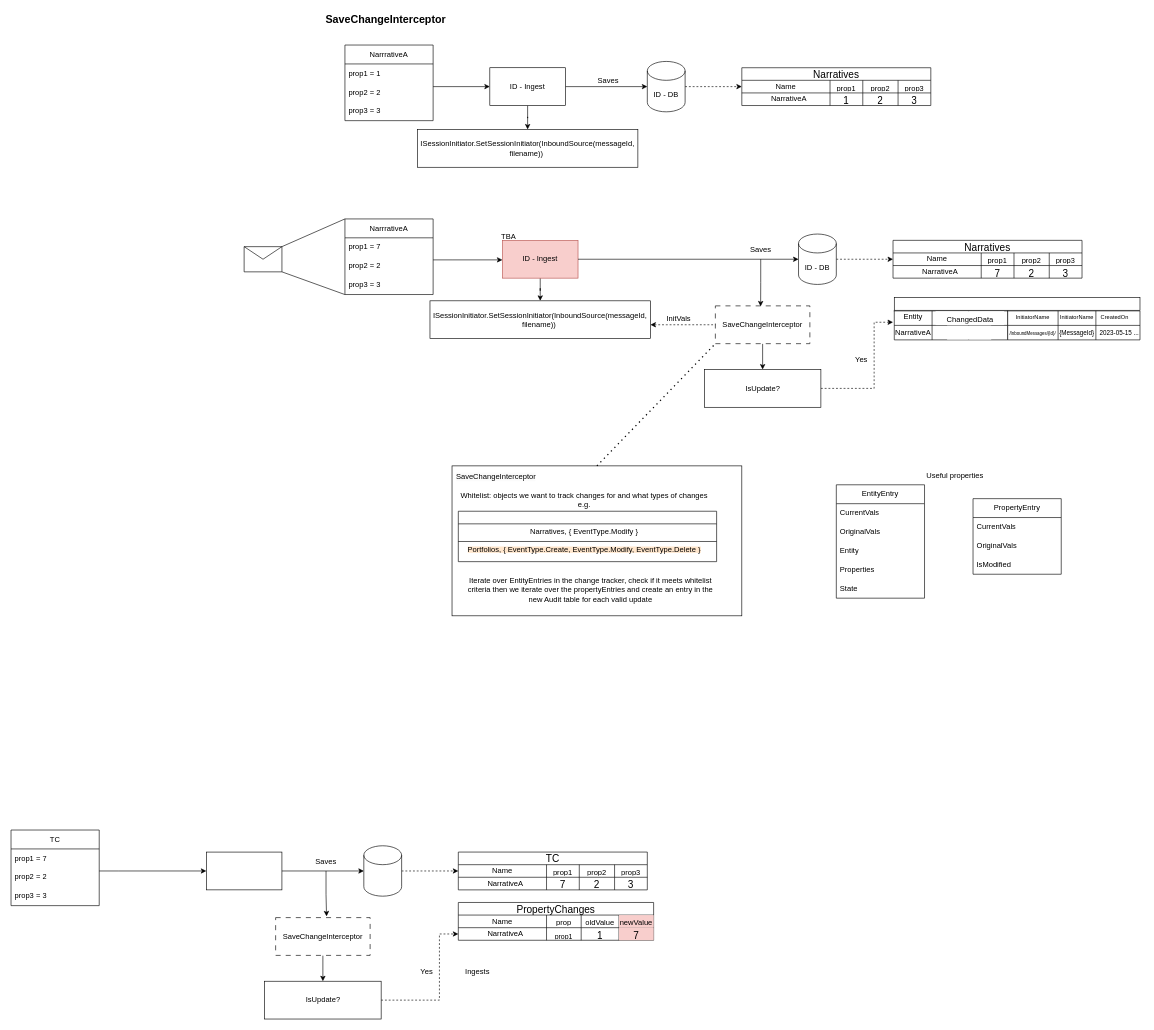
Some shapes in this 1154 by 1030 pixel diagram are drawn without their labels. Each missing label, with the centre of its shape:
"Audit Log" goes at pixel 1017 303.
"FDC" goes at pixel 244 870.
"FDC - DB" goes at pixel 382 870.
"Whitelist example" goes at pixel 587 536.
"{ prop1 : 1 }" goes at pixel 969 332.
